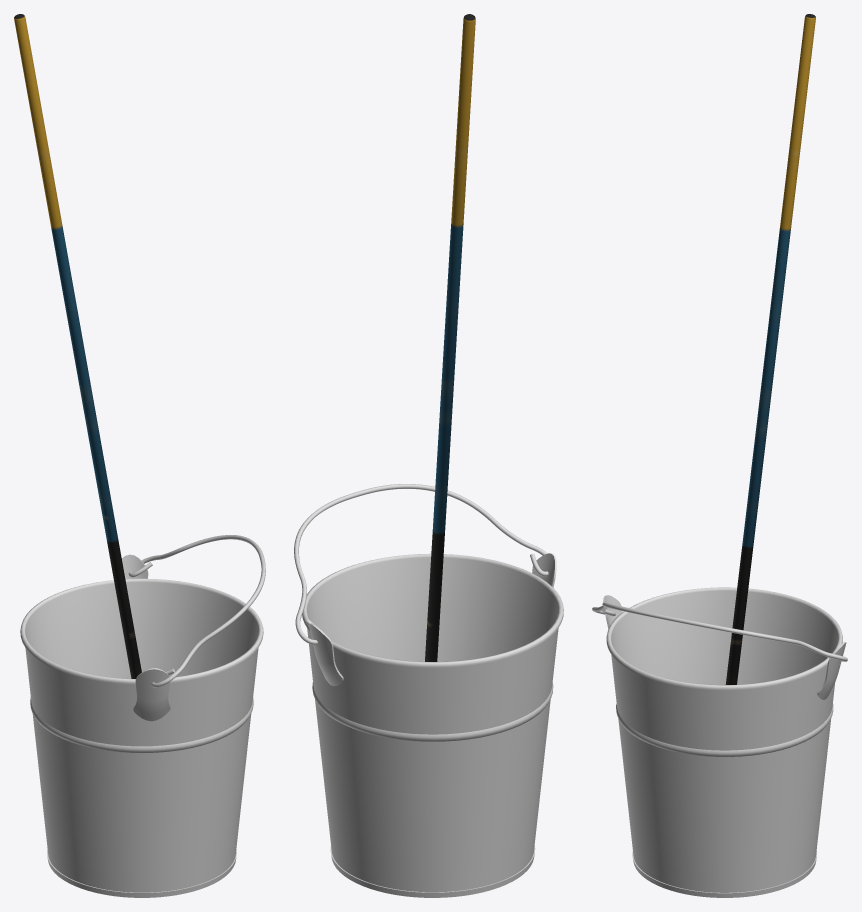
The model's file is KB3D_DMZ_Bucket_A.fbx.
3 views of the same model, side by side, from view 1: azimuth 30°, elevation 25°; view 2: azimuth 150°, elevation 25°; view 3: azimuth 270°, elevation 25° (orthographic). The views are drawn at different scales.
Parts seen in each view (by area): view 1: KB3D_DMZ_Bucket_A_Main; view 2: KB3D_DMZ_Bucket_A_Main; view 3: KB3D_DMZ_Bucket_A_Main.
Part boxes in pixels (x1,y1,x2,y2): KB3D_DMZ_Bucket_A_Main: (14, 14, 265, 897); KB3D_DMZ_Bucket_A_Main: (294, 14, 563, 897); KB3D_DMZ_Bucket_A_Main: (592, 14, 847, 897).
Bounding box in the file's own units: 43.46 × 159 × 45.71.
